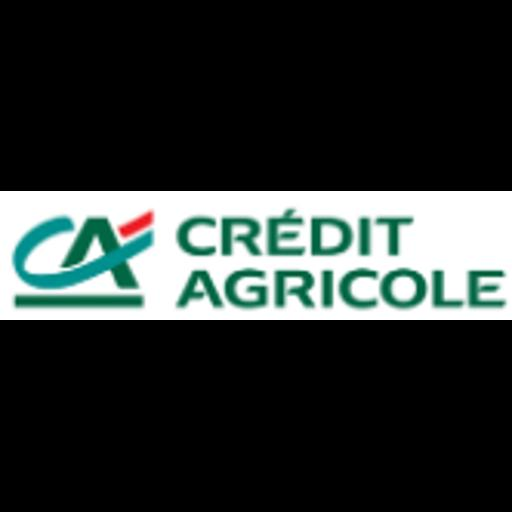Credit Agricole S-A: (0, 191, 512, 320)
